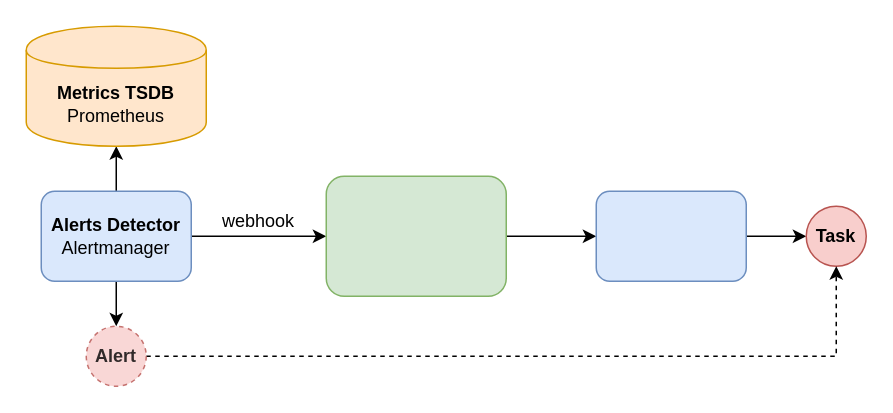
The diagram is 893 pixels wide and 413 high, and some of its shapes have lost their labels. The centre of each missing label's shape, as x and y in pixels:
Adapter alertmanager-jira-py: the point at 415,235
Task Tracker JIRA API: the point at 670,235
